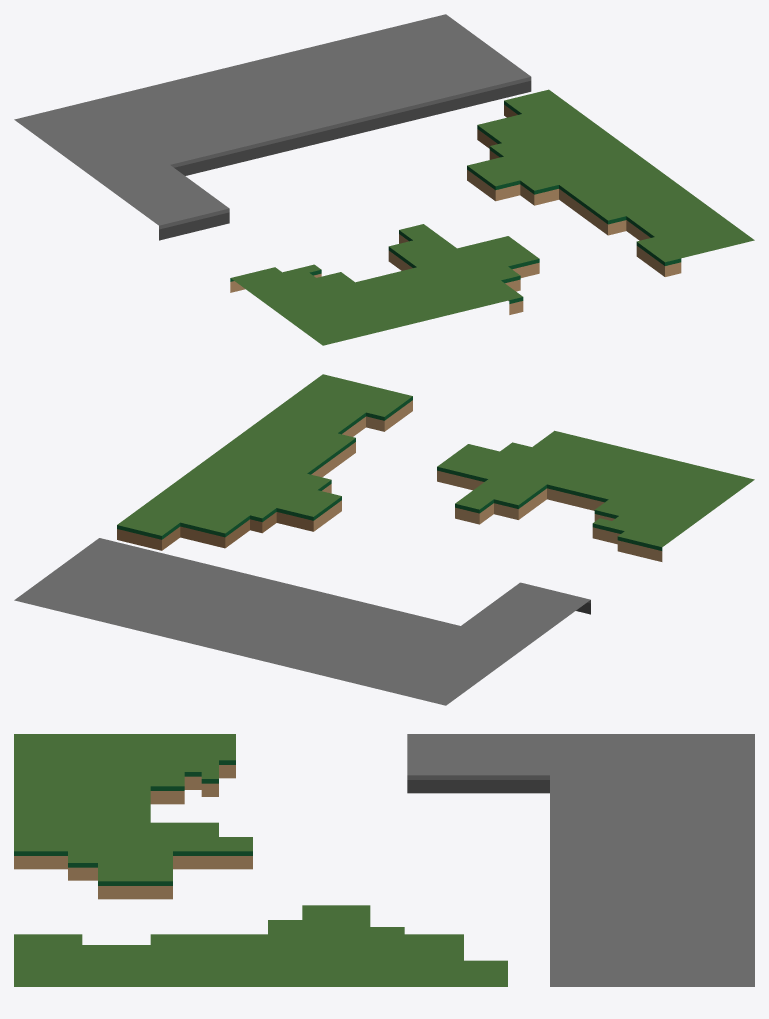
The model's file is SM_Env_Tile_05.fbx.
3 renders of one model, top to bottom at view 1: azimuth 30°, elevation 25°; view 2: azimuth 150°, elevation 25°; view 3: azimuth 270°, elevation 25°, orthographic. The views are drawn at different scales.
Parts seen in each view (by area): view 1: SM_Env_Tile_05; view 2: SM_Env_Tile_05; view 3: SM_Env_Tile_05.
Boxes of the visible parts, x1=… form: SM_Env_Tile_05: x1=14, y1=14, x2=754, y2=345; SM_Env_Tile_05: x1=14, y1=374, x2=754, y2=705; SM_Env_Tile_05: x1=14, y1=734, x2=754, y2=986.
Bounding box in the file's own units: 87.59 × 109 × 2.89.
